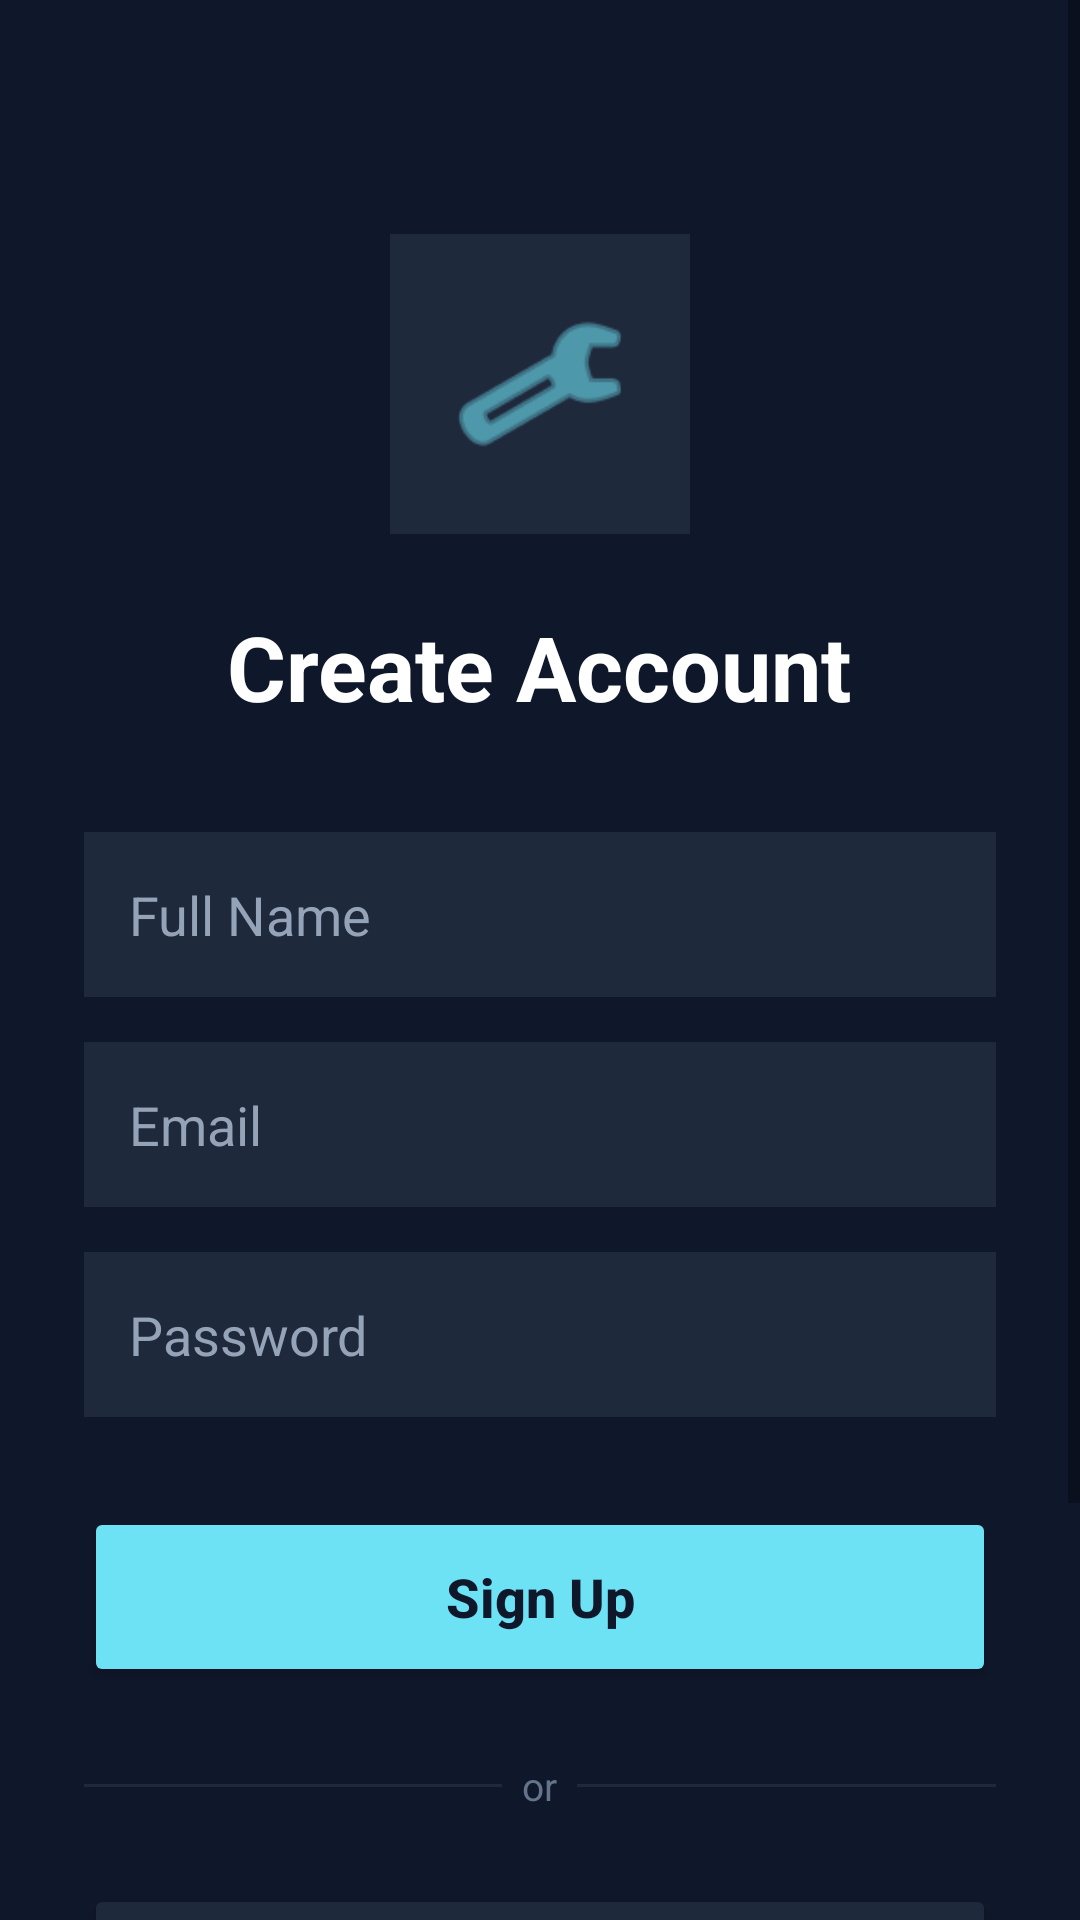

Named icons in this screenshot (1080×1920) and their bounding boxes, {"left": x1, "top": y1, "right": x2, "bottom": y2}:
manage: {"left": 390, "top": 234, "right": 690, "bottom": 534}
